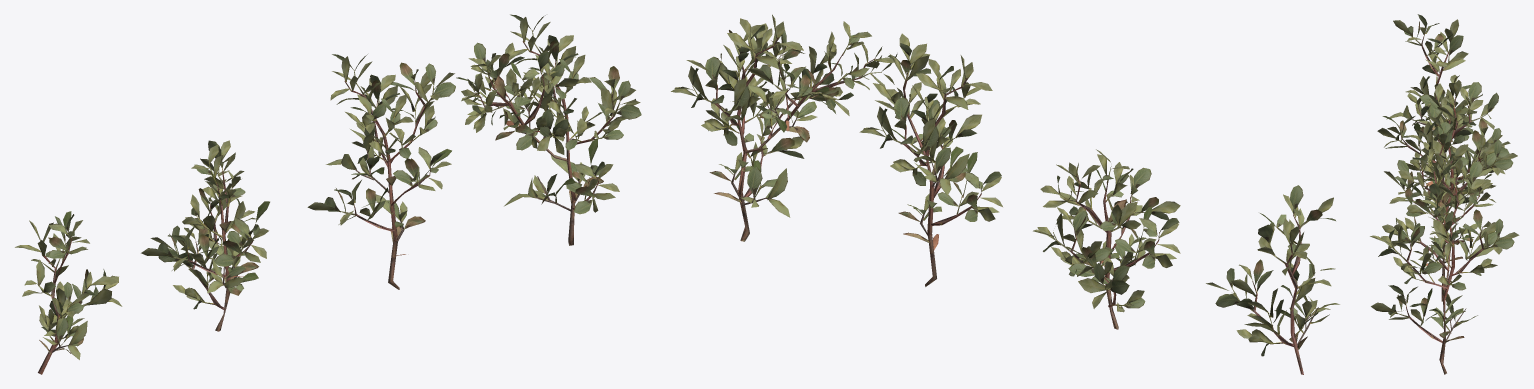
File: bush.glb
3 renders of one model, left to right at view 1: azimuth 30°, elevation 25°; view 2: azimuth 150°, elevation 25°; view 3: azimuth 270°, elevation 25°, orthographic. The views are drawn at different scales.
Parts seen in each view (by area): view 1: shrub_04; view 2: shrub_04; view 3: shrub_04.
Boxes of the visible parts, bbox=[...] form: shrub_04: bbox=[15, 14, 641, 374]; shrub_04: bbox=[671, 14, 1339, 374]; shrub_04: bbox=[1370, 14, 1519, 374].
Size of the model in its own units: 1.6 by 0.6 by 0.3993.
1 material, 1 textured.
